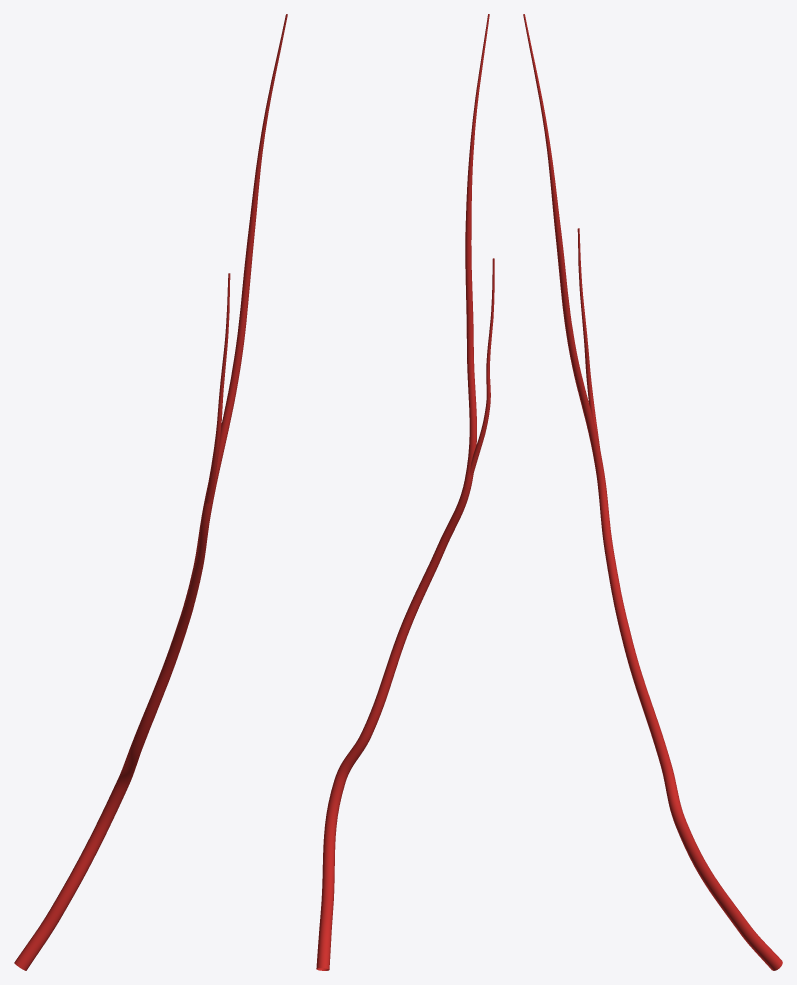
Rendered from circulatorio-superficial-epigastric-artery-r.glb.
The picture shows the model from 3 angles, left to right: view 1: azimuth 90°, elevation 25°; view 2: azimuth 150°, elevation 25°; view 3: azimuth 270°, elevation 25°; orthographic projection. The views are drawn at different scales.
Visible parts, largest first — view 1: Superficial epigastric artery.r; view 2: Superficial epigastric artery.r; view 3: Superficial epigastric artery.r.
Part boxes in pixels (x1,y1,x2,y2): Superficial epigastric artery.r: (14, 14, 287, 970); Superficial epigastric artery.r: (316, 14, 494, 970); Superficial epigastric artery.r: (523, 14, 782, 970).
Size of the model in its own units: 0.0295 by 0.2204 by 0.0557.
